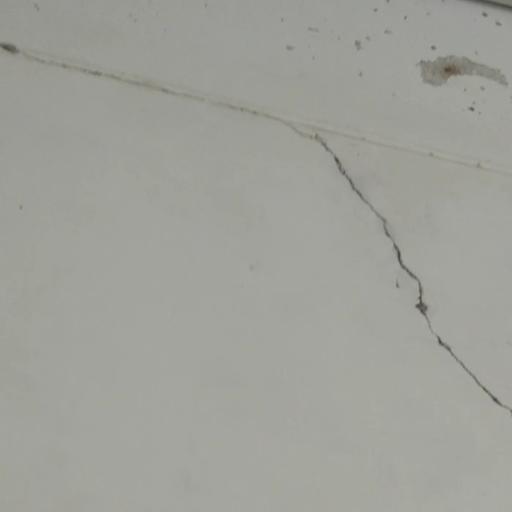major_crack: (0, 30, 512, 415)
